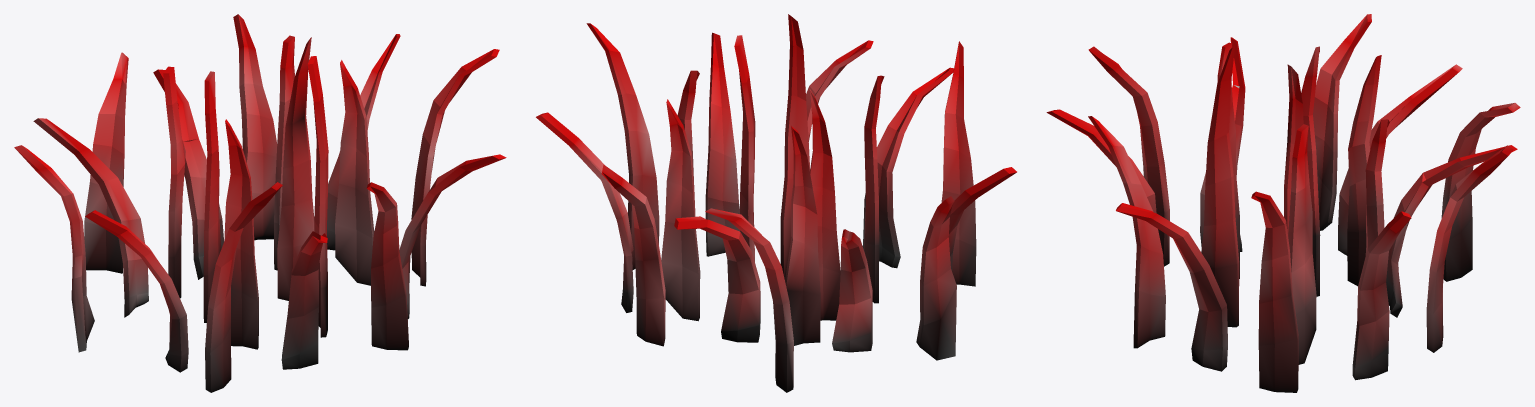
File: Grsssssas.fbx
3 views of the same model, side by side, from view 1: azimuth 30°, elevation 25°; view 2: azimuth 150°, elevation 25°; view 3: azimuth 270°, elevation 25° (orthographic). The views are drawn at different scales.
Parts seen in each view (by area): view 1: Plane.003; view 2: Plane.003; view 3: Plane.003.
Part boxes in pixels (bbox=[...]): Plane.003: bbox=[14, 14, 506, 392]; Plane.003: bbox=[536, 14, 1016, 392]; Plane.003: bbox=[1046, 14, 1520, 392].
Size of the model in its own units: 4294 by 2599 by 3972.
